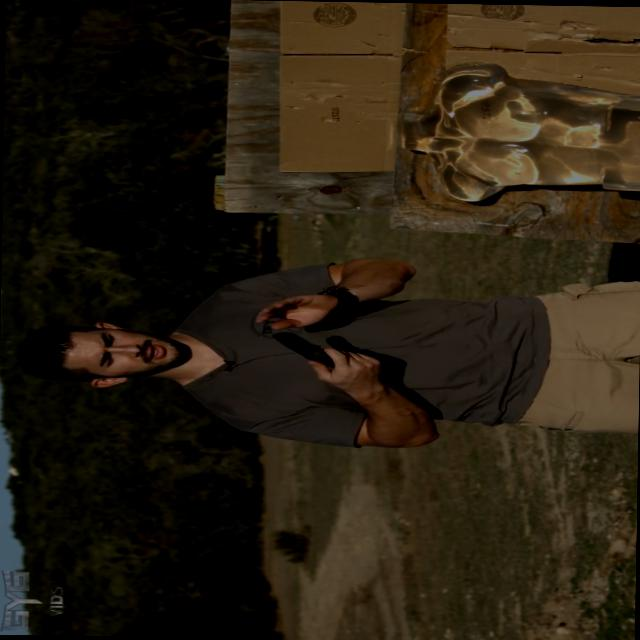knife: (260, 328, 387, 389)
